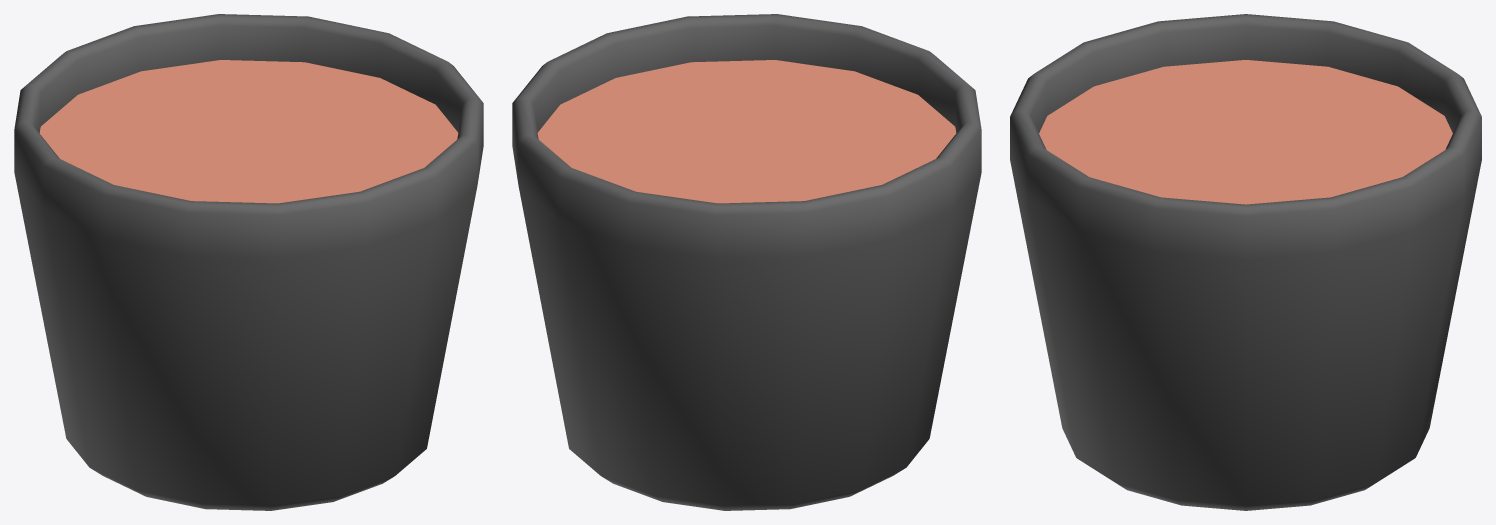
The model's file is Pot.fbx.
3 views of the same model, side by side, from view 1: azimuth 30°, elevation 25°; view 2: azimuth 150°, elevation 25°; view 3: azimuth 270°, elevation 25° (orthographic).
Visible parts, largest first — view 1: Cylinder; view 2: Cylinder; view 3: Cylinder.
Part boxes in pixels (bbox=[...]): Cylinder: bbox=[14, 14, 483, 510]; Cylinder: bbox=[512, 14, 981, 510]; Cylinder: bbox=[1010, 14, 1481, 510].
Size of the model in its own units: 260 by 200 by 260.
